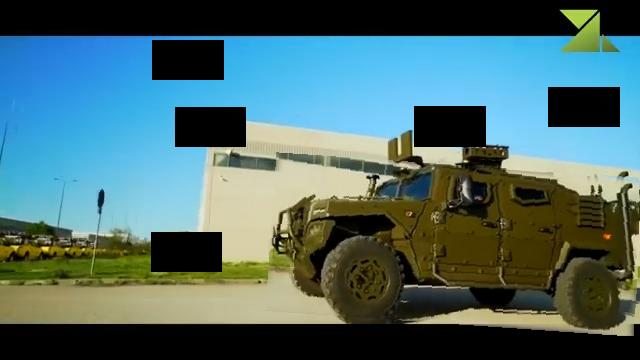MIL_HMMWV: (268, 158, 640, 329)
